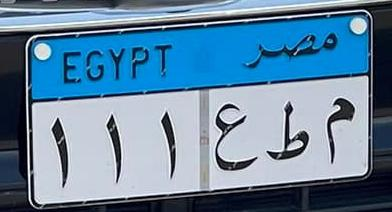1: (103, 112, 127, 185), (50, 113, 70, 189), (161, 107, 179, 183)
ط: (268, 100, 312, 163)
ع: (212, 98, 259, 176)
م: (318, 87, 357, 165)
